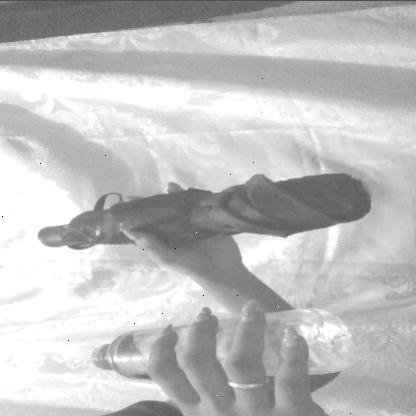Plastic Bottle: (73, 288, 400, 396)
